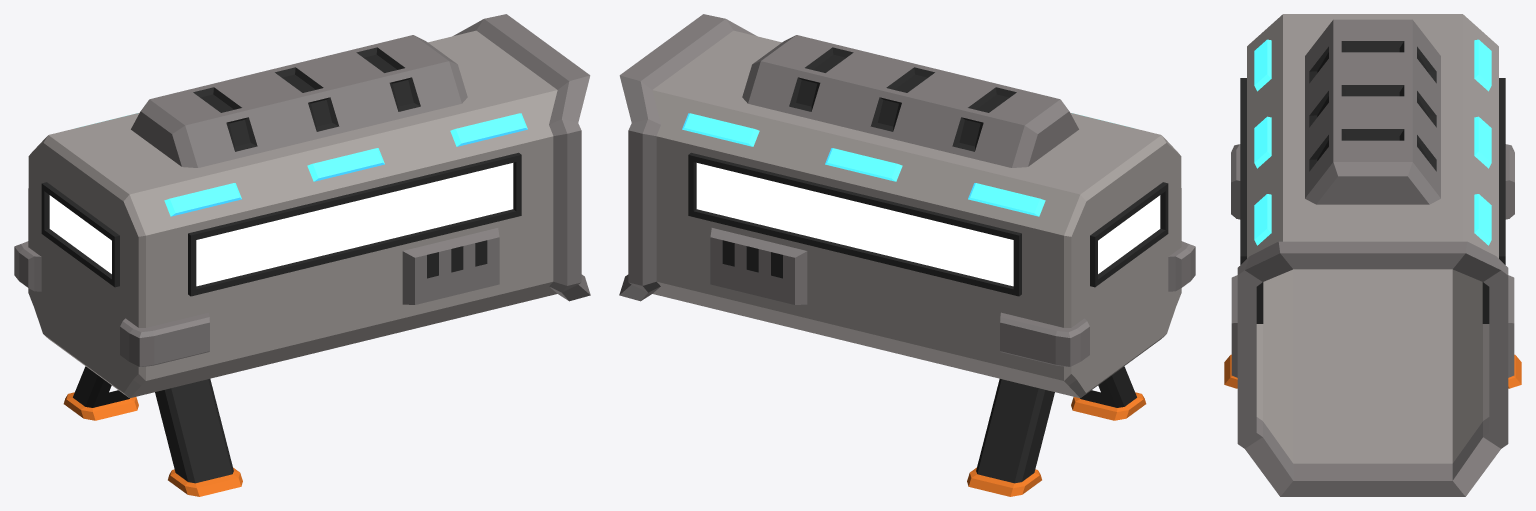
File: scifi-scifi-planet-base-side-sleeping.glb
The picture shows the model from 3 angles, left to right: view 1: azimuth 30°, elevation 25°; view 2: azimuth 150°, elevation 25°; view 3: azimuth 270°, elevation 25°; orthographic projection. The views are drawn at different scales.
Parts seen in each view (by area): view 1: scifi-planet-base-side-sleeping; view 2: scifi-planet-base-side-sleeping; view 3: scifi-planet-base-side-sleeping.
Part boxes in pixels (x1,y1,x2,y2): scifi-planet-base-side-sleeping: (14, 14, 590, 496); scifi-planet-base-side-sleeping: (619, 14, 1195, 496); scifi-planet-base-side-sleeping: (1224, 14, 1521, 496).
Size of the model in its own units: 5.98 by 3.93 by 2.93.
